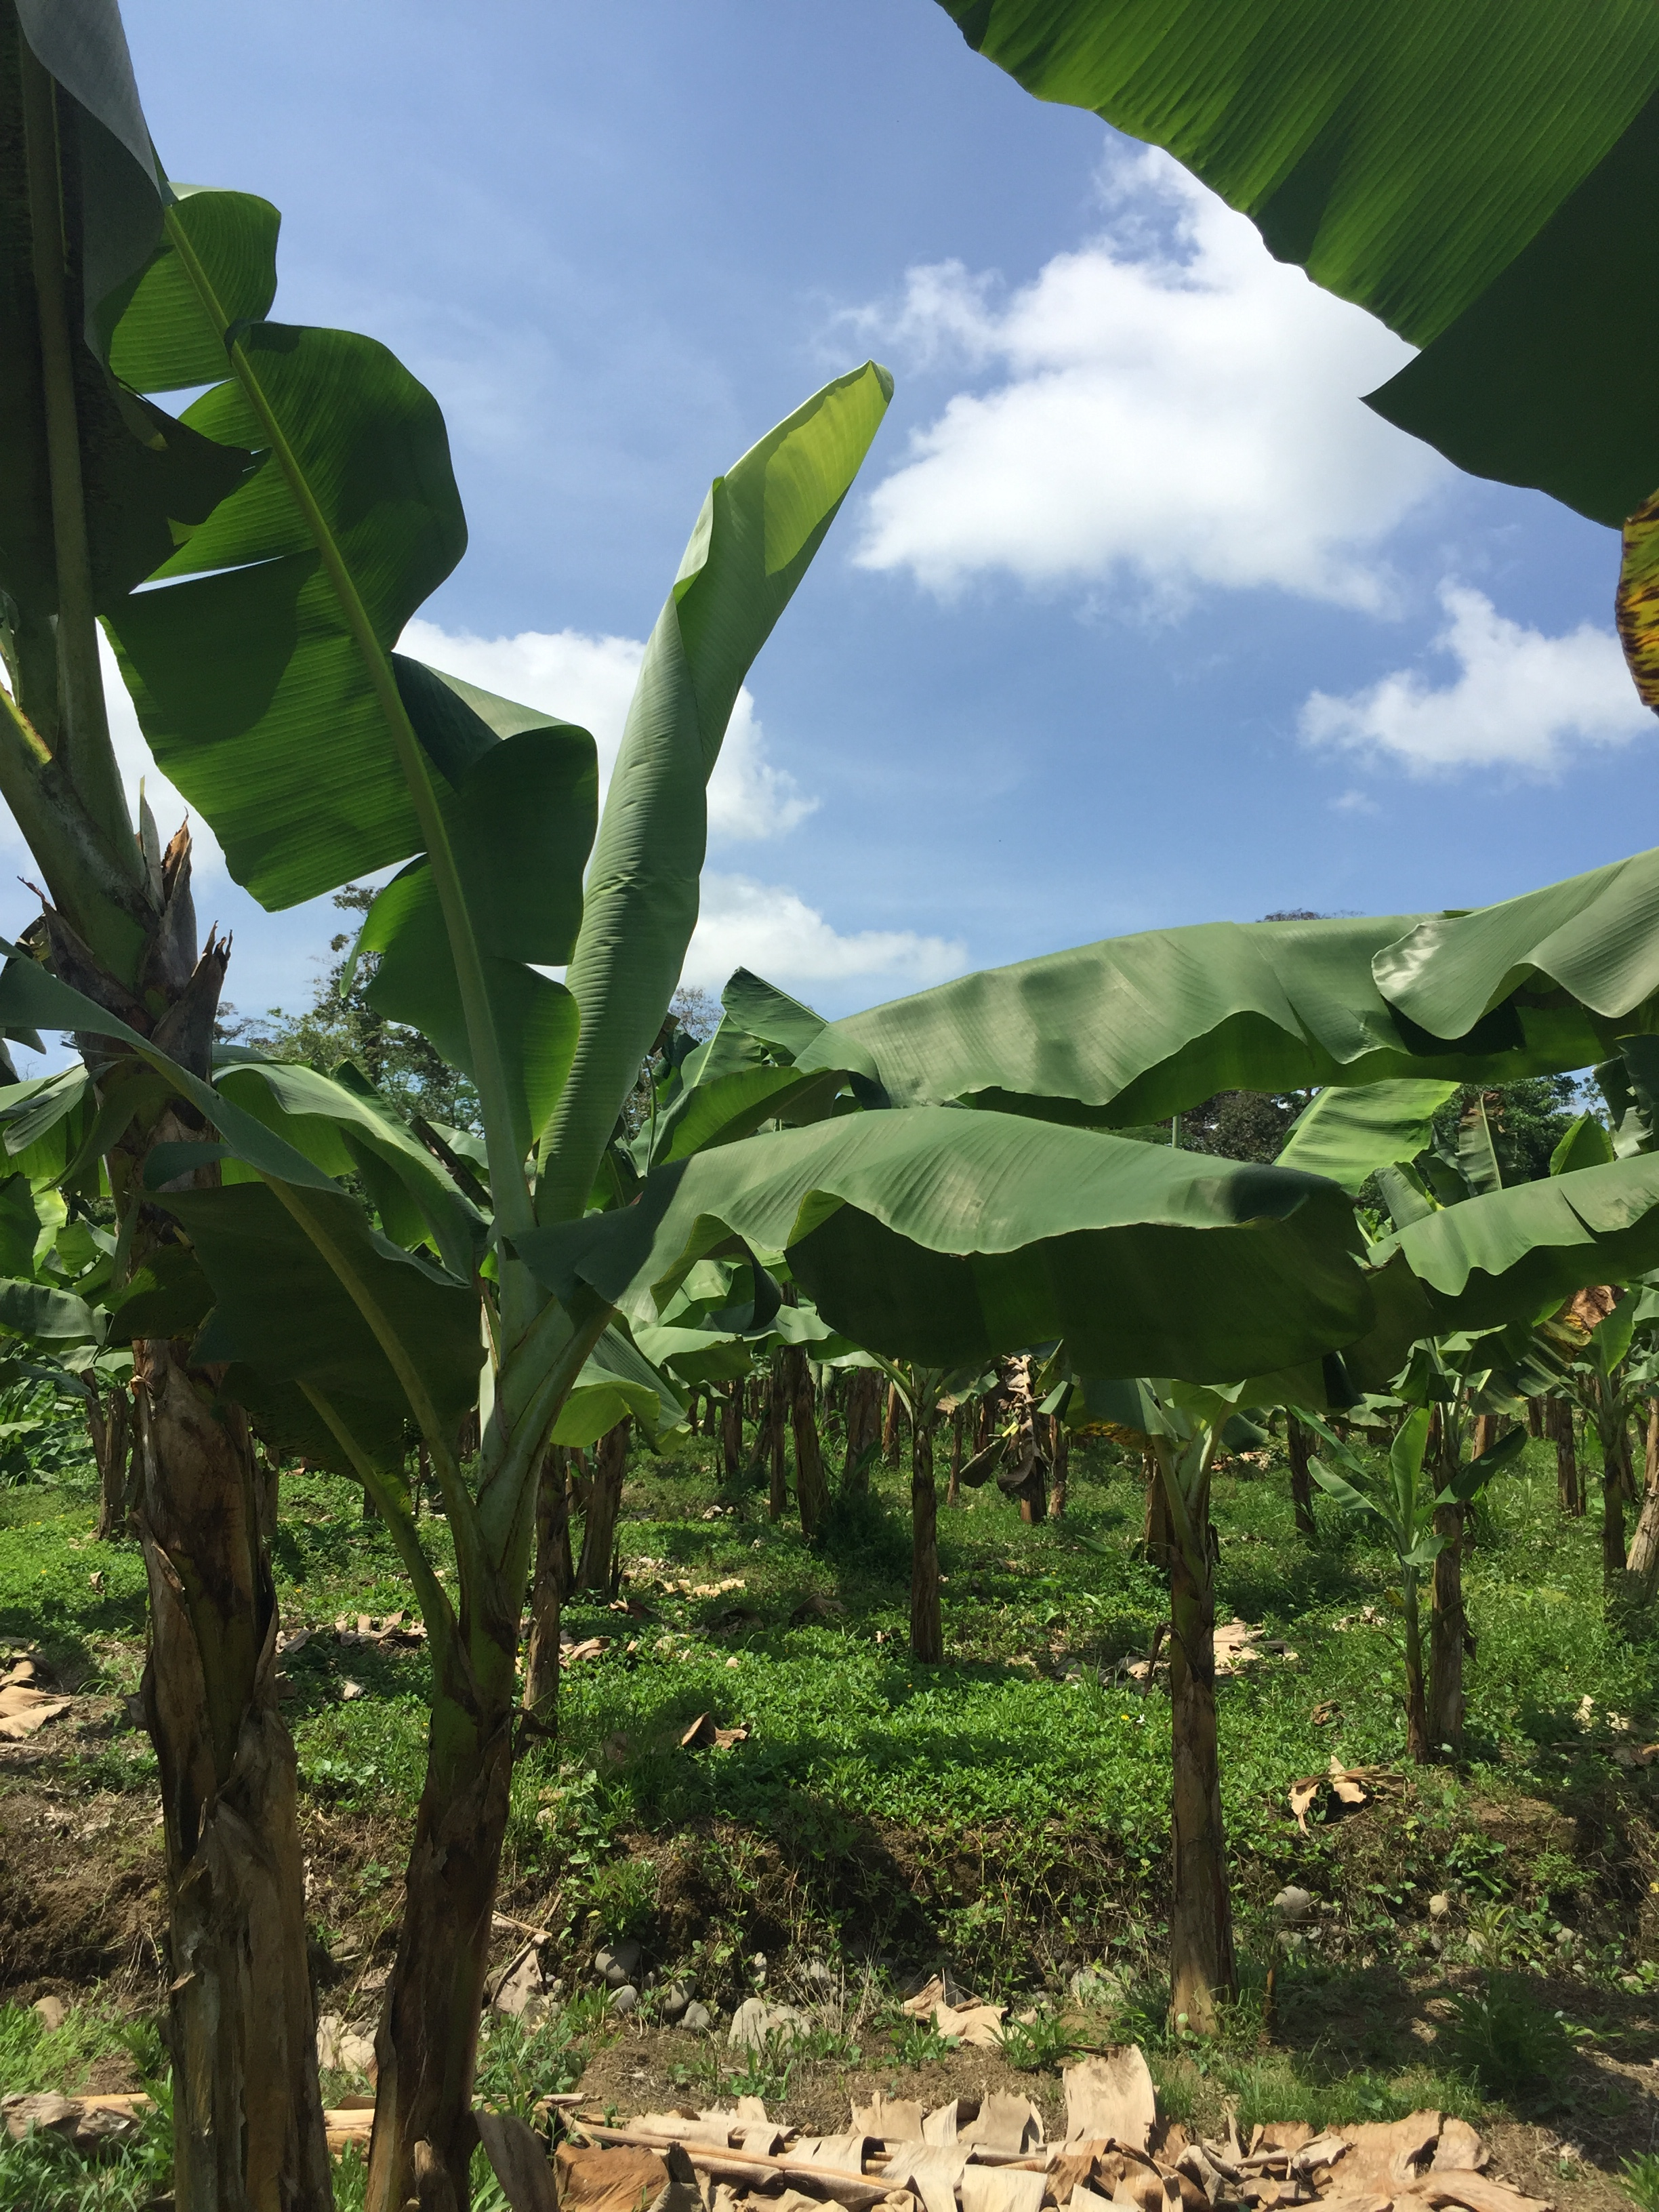candleleafs: (530, 357, 896, 1240)
